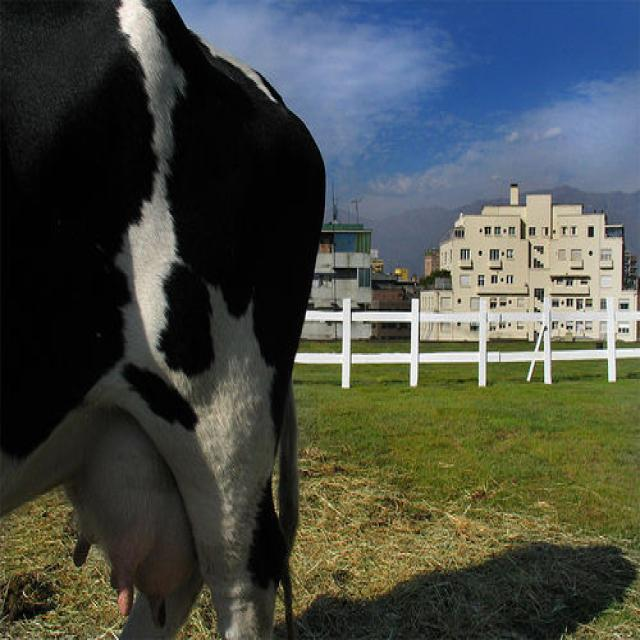cow: (1, 1, 327, 639)
